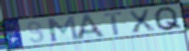9: (26, 20, 46, 44)
A: (75, 13, 108, 42)
M: (45, 15, 80, 43)
Q: (153, 5, 184, 32)
T: (103, 11, 124, 36)
X: (125, 8, 157, 35)
